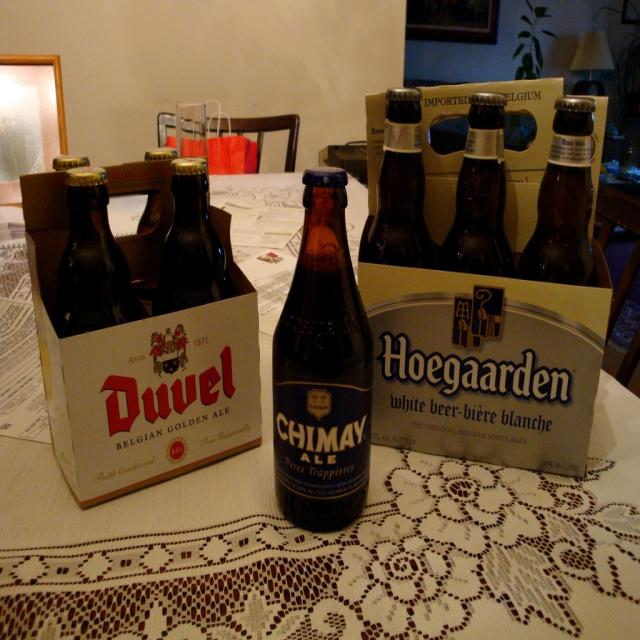chimay: (275, 382, 374, 501)
